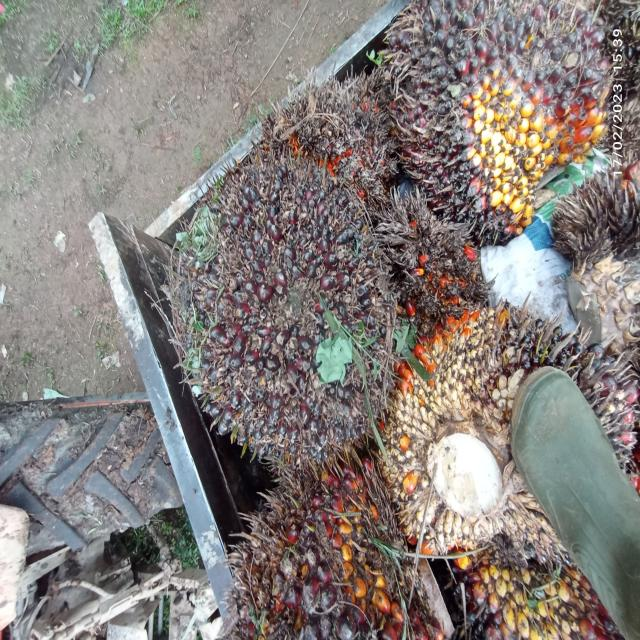fraksi 00: (143, 141, 411, 494), (386, 0, 624, 238), (218, 472, 449, 640)
fraksi 4: (261, 68, 402, 197), (388, 160, 478, 324)
